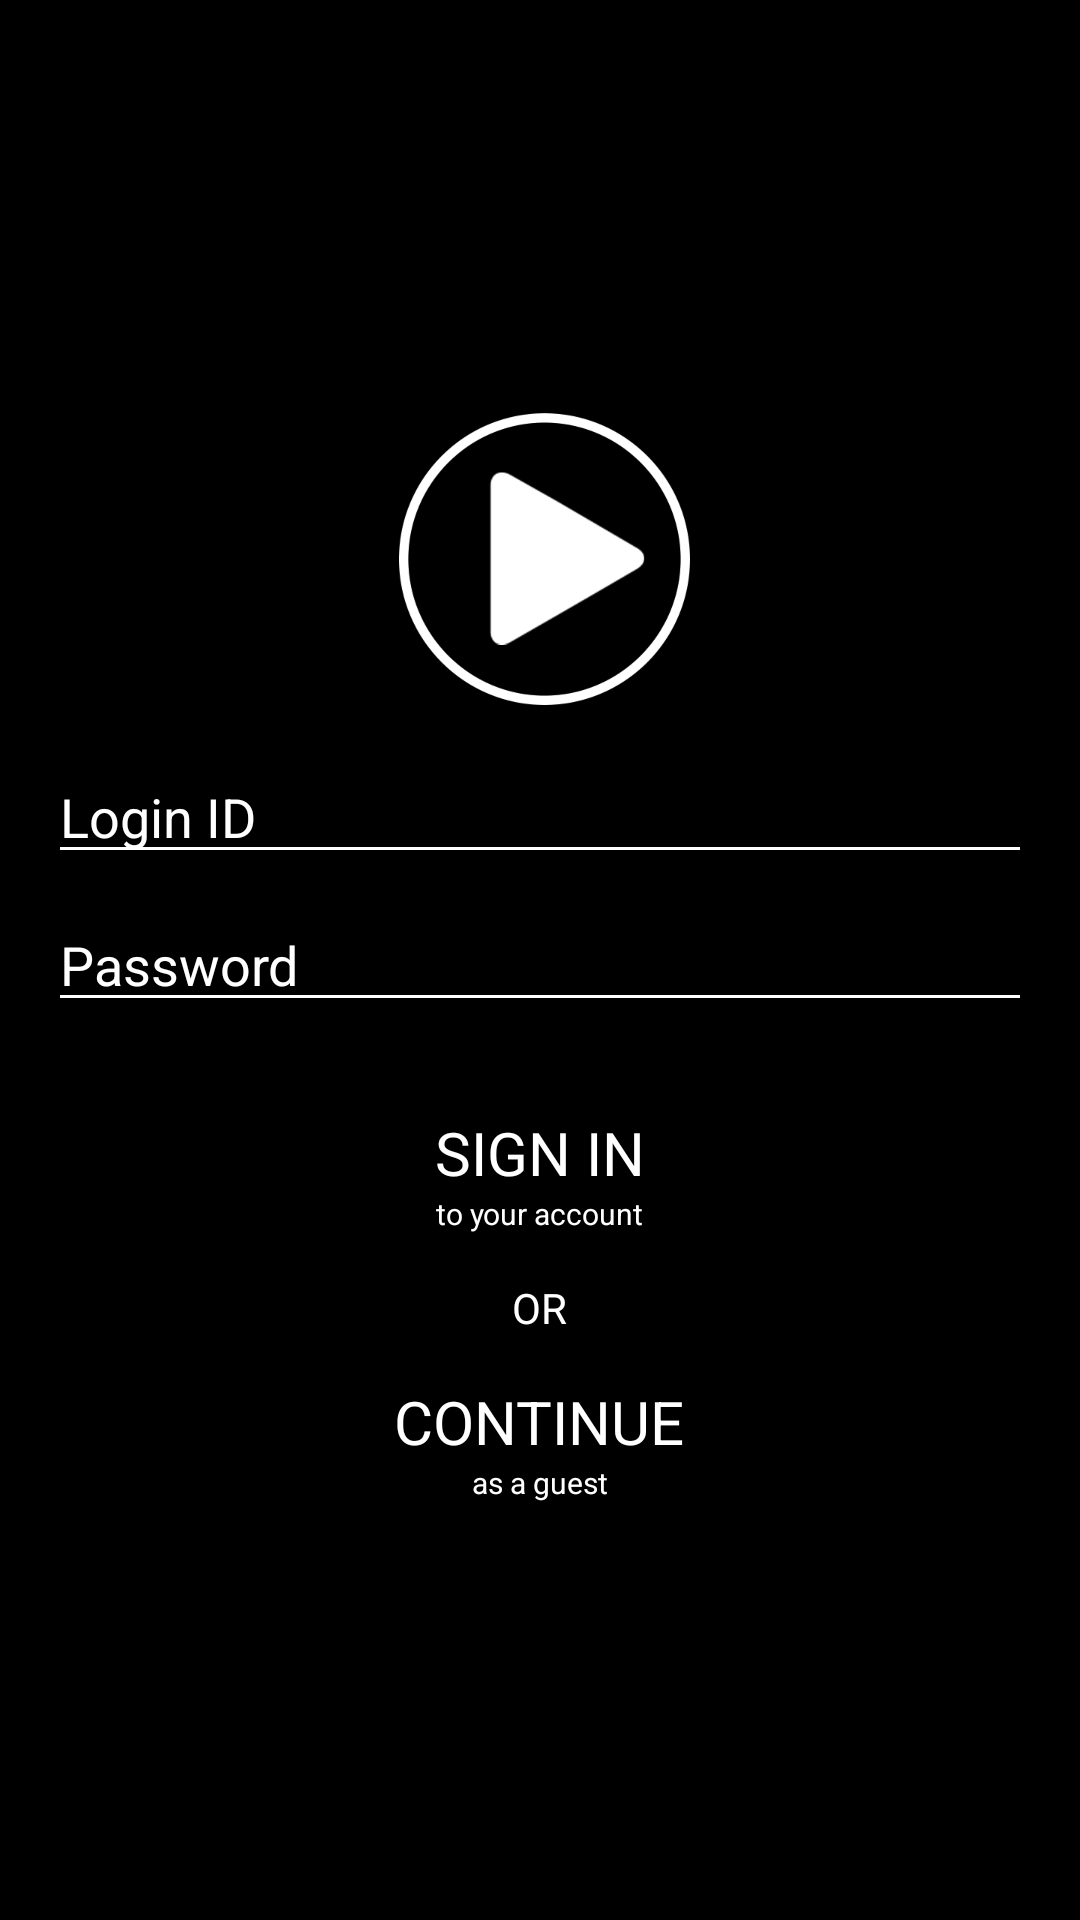

Named icons in this screenshot (1080x1920) and their centers, (x,y):
play: (544,559)
